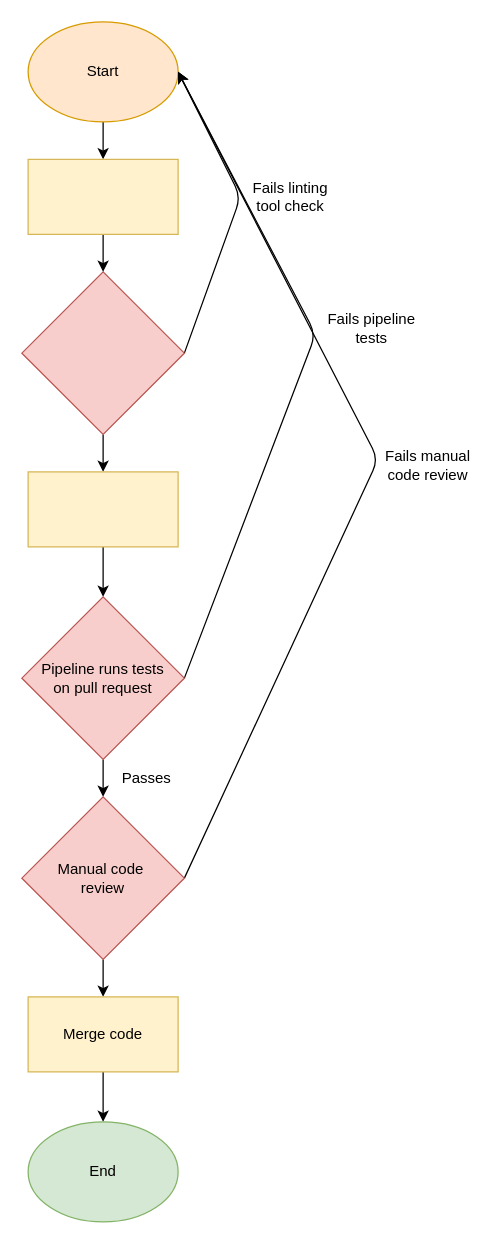
Some shapes in this 500 by 1244 pixel diagram are drawn without their labels. The shapes that lost their labels are listed below. From the top down, each one's box as (x1, y1, x2, y2) in pixels, then its label:
(27, 158, 178, 234): Developer makes changes
(21, 271, 184, 434): Linting tool used in editor
(27, 471, 178, 547): Devloper creates pull request
